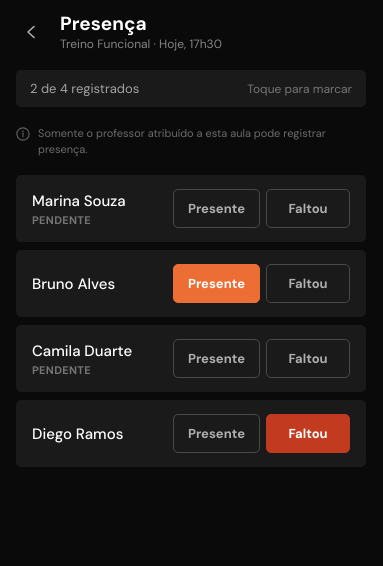
Test: Presença (professor) › explica e relê a lista quando a reserva já não aceita presença (cancelada)
Expected: the text "2 de 4 registrados" is shown, [30, 80, 139, 97]
Click the button "Presente" next to "Marina Souza". click: (216, 208)
box: [173, 189, 260, 228]
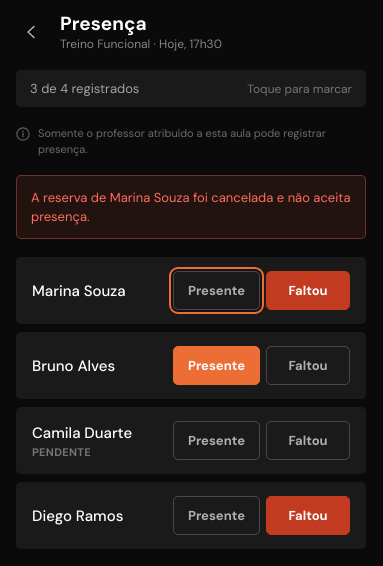
Expected: the message reads "A reserva de Marina Souza foi cancelada e não aceita presença.", [31, 189, 350, 225]
